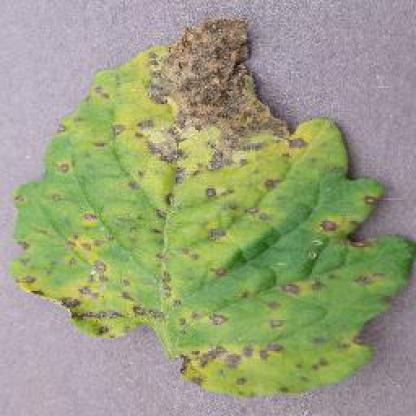bad leaf: (18, 73, 306, 208), (103, 238, 324, 393), (116, 12, 303, 195), (4, 190, 218, 346), (233, 124, 383, 264), (186, 234, 408, 300), (282, 197, 362, 344)
